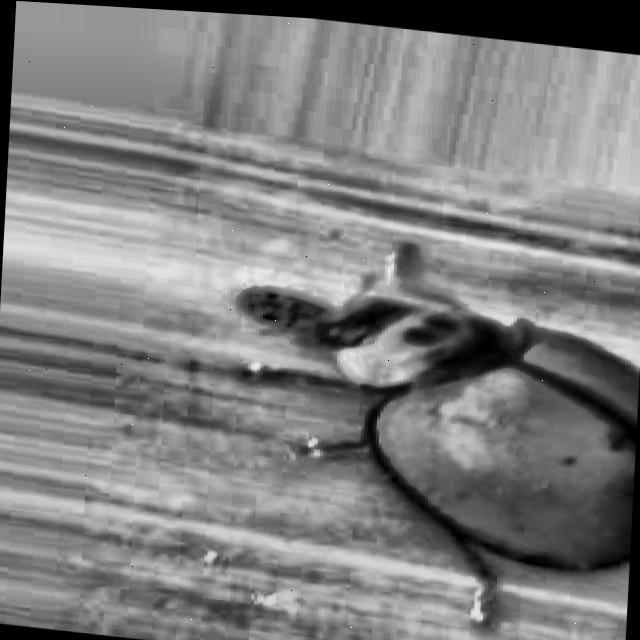Ladybug: (177, 196, 640, 640)
